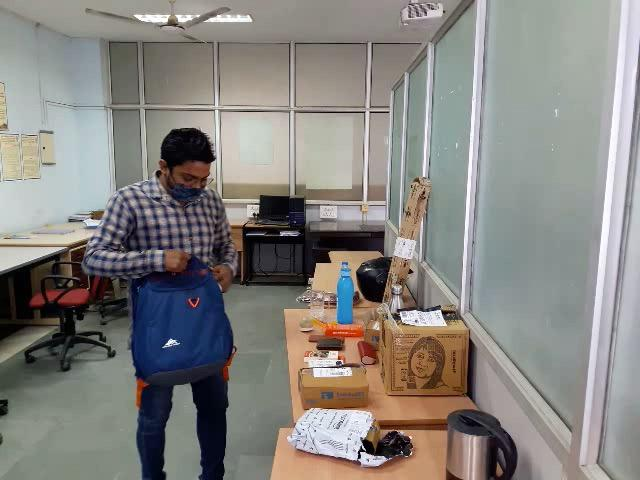shoplifting: (123, 239, 241, 399)
